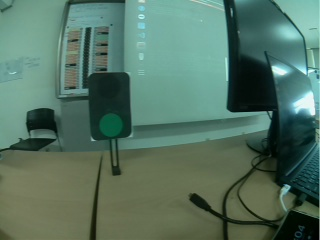green_light: (88, 73, 133, 143)
